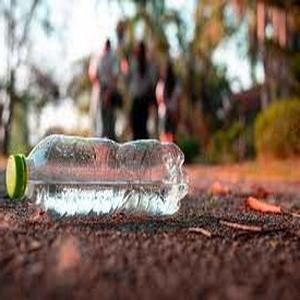Plastic: (0, 135, 187, 221)
